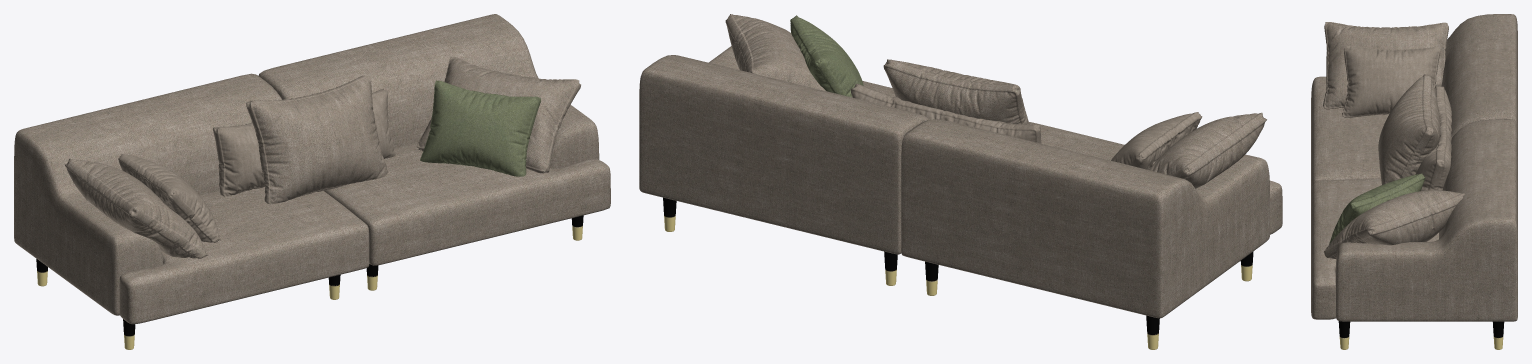
Rendered from MEGA_PACK_Sofa__Covering_fabric_sofa.glb.
3 renders of one model, left to right at view 1: azimuth 30°, elevation 25°; view 2: azimuth 150°, elevation 25°; view 3: azimuth 270°, elevation 25°, orthographic. The views are drawn at different scales.
Parts seen in each view (by area): view 1: Covering fabric sofa; view 2: Covering fabric sofa; view 3: Covering fabric sofa.
Part boxes in pixels (x1,y1,x2,y2): Covering fabric sofa: (14, 14, 610, 349); Covering fabric sofa: (639, 14, 1282, 349); Covering fabric sofa: (1311, 14, 1517, 349).
Bounding box in the file's own units: 2.4 × 0.8141 × 0.9991.
Materials: 3 (3 with a texture image).
